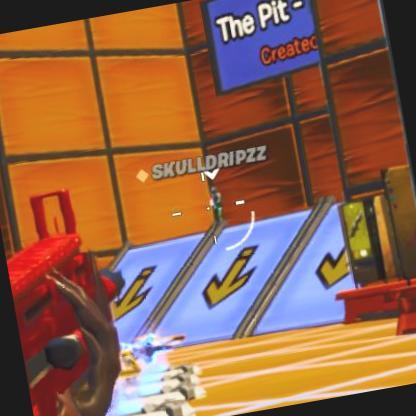person: (205, 185, 227, 224)
